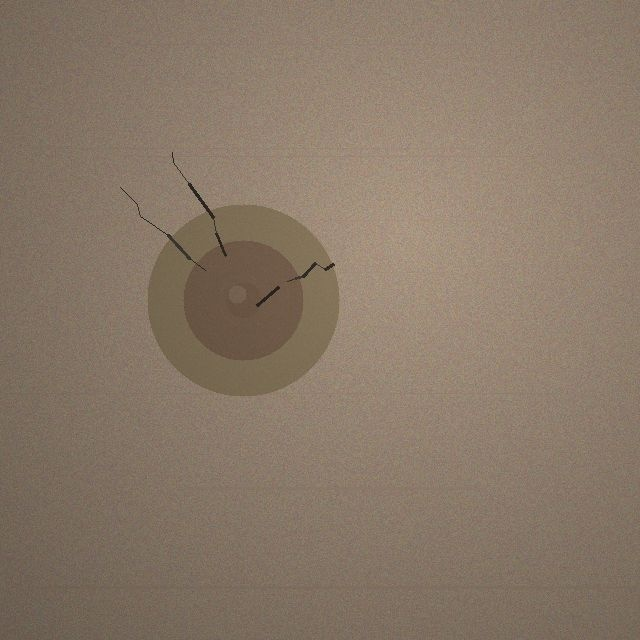crack: (147, 204, 339, 396)
